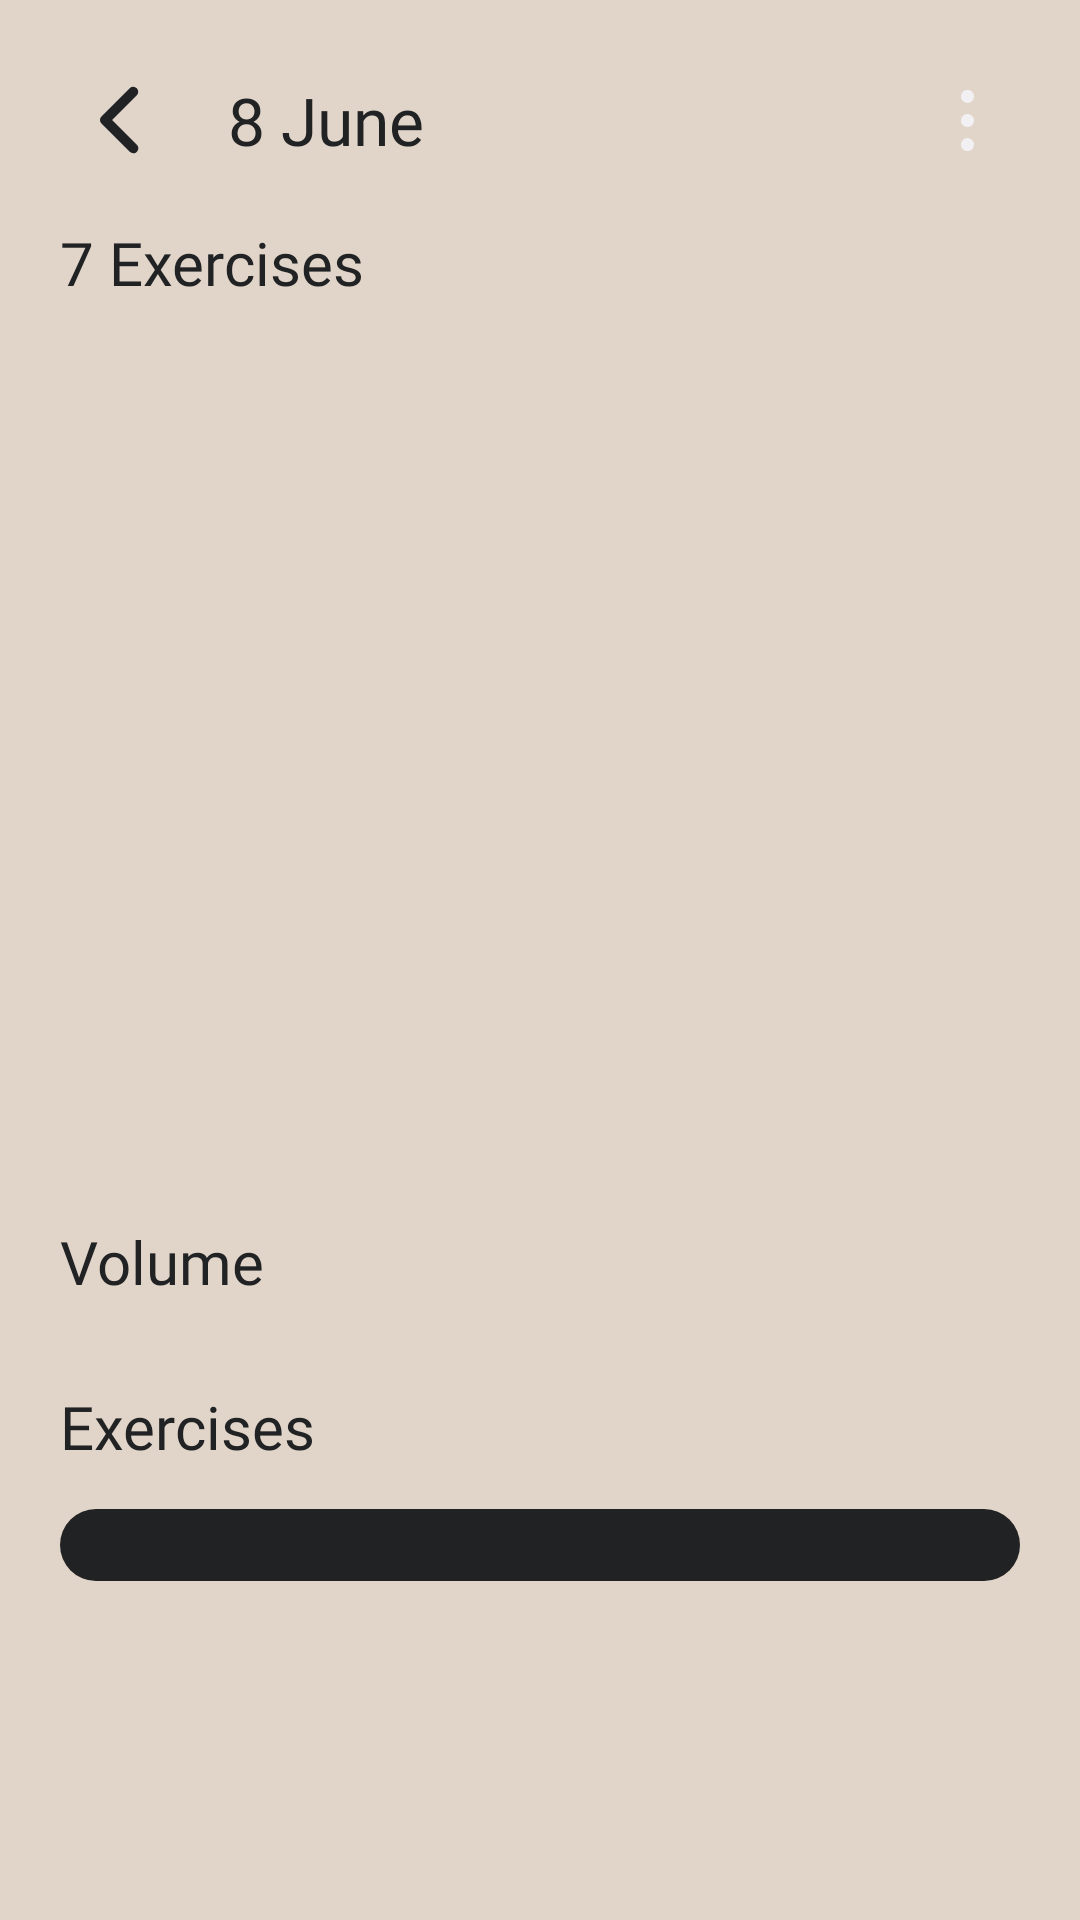

Screen size 1080x1920. Icon name, then its box in pixels as (x1, y1, x2, y2):
arrow left: (100, 86, 139, 154)
more: (961, 90, 974, 151)
